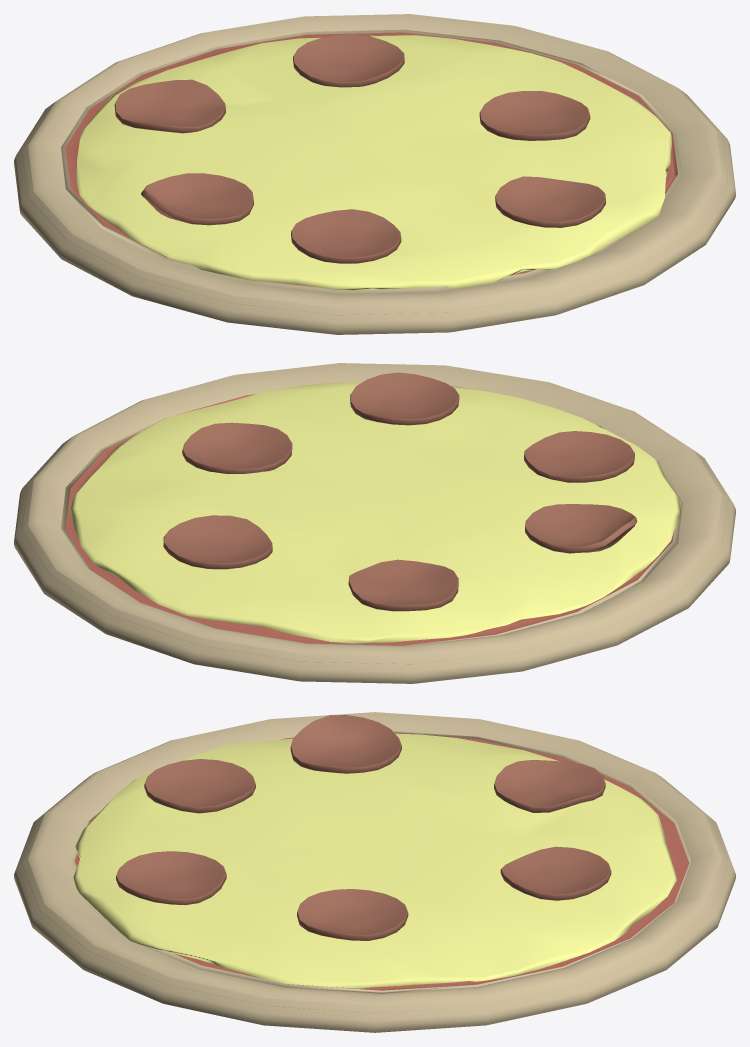
Rendered from thin_sausage.gltf.
3 renders of one model, top to bottom at view 1: azimuth 30°, elevation 25°; view 2: azimuth 150°, elevation 25°; view 3: azimuth 270°, elevation 25°, orthographic.
Parts seen in each view (by area): view 1: cheese, thin, polySurface145, polySurface143, polySurface147, polySurface146, polySurface142, polySurface144; view 2: cheese, thin, polySurface147, polySurface142, polySurface145, polySurface144, polySurface143, polySurface146; view 3: cheese, thin, polySurface146, polySurface144, polySurface143, polySurface142, polySurface145, polySurface147.
Boxes of the visible parts, x1,y1,x2,y2 form: cheese: [76, 35, 671, 290]; thin: [14, 14, 735, 334]; polySurface145: [114, 79, 225, 133]; polySurface143: [291, 209, 401, 263]; polySurface147: [293, 34, 404, 87]; polySurface146: [141, 173, 253, 225]; polySurface142: [479, 91, 590, 140]; polySurface144: [495, 176, 605, 227]; cheese: [69, 382, 681, 643]; thin: [14, 363, 735, 683]; polySurface147: [163, 515, 272, 569]; polySurface142: [182, 422, 292, 473]; polySurface145: [348, 559, 458, 611]; polySurface144: [350, 372, 459, 425]; polySurface143: [524, 431, 634, 482]; polySurface146: [525, 504, 636, 553]; cheese: [73, 733, 676, 988]; thin: [14, 712, 735, 1032]; polySurface146: [290, 715, 401, 773]; polySurface144: [116, 851, 226, 905]; polySurface143: [144, 759, 255, 813]; polySurface142: [297, 889, 408, 940]; polySurface145: [494, 760, 605, 812]; polySurface147: [500, 846, 611, 900].
Size of the model in its own units: 0.0974 by 0.0078 by 0.0974.
